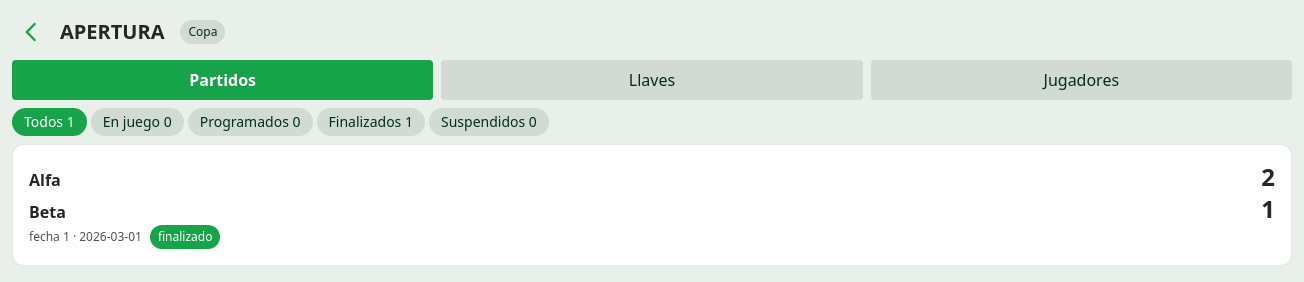
Test: resultado en listados › llaves de copa muestran el marcador sin abrir el detalle
The image size is (1304, 282).
Click the tab "Llaves" at (652, 80), box [441,60,863,100]
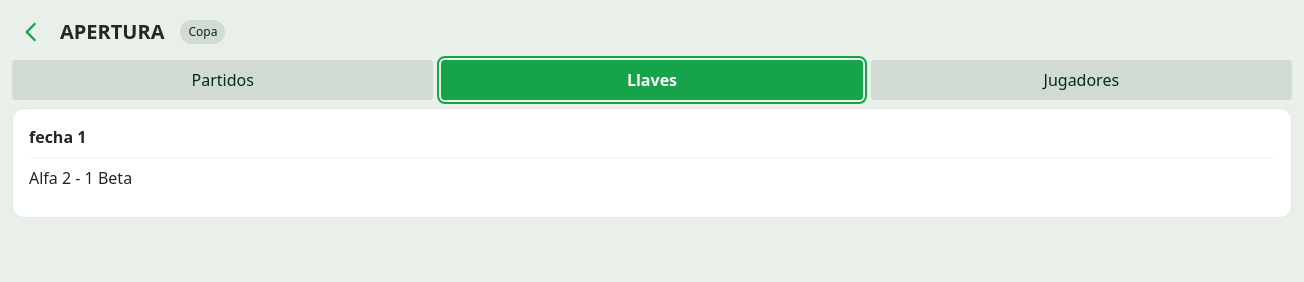
Result: the link "Alfa 2 - 1 Beta" is shown at [29,157,1275,201]
